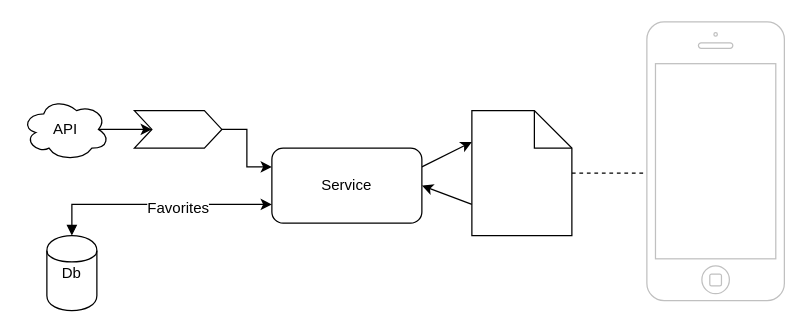
The diagram is 806 pixels wide and 333 high, and some of its shapes have lost their labels. The centre of each missing label's shape, as x and y in pixels:
Mapper: point (177, 128)
ViewModel: point (521, 172)
